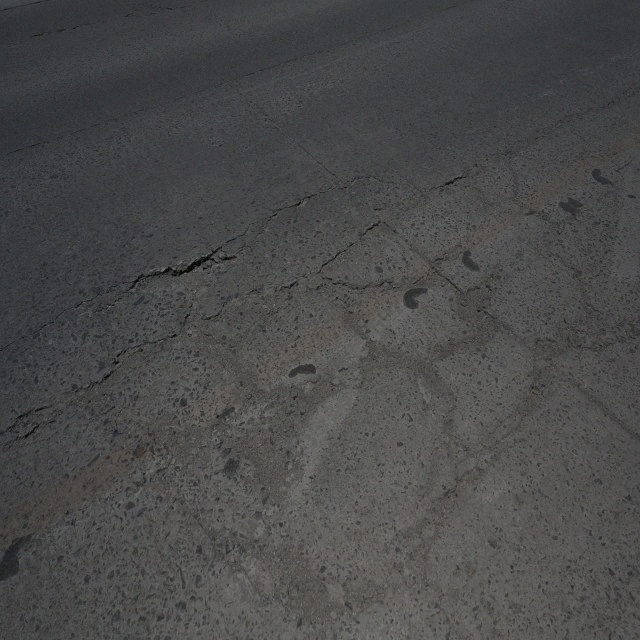pothole: (133, 245, 225, 306), (80, 342, 140, 408), (524, 334, 562, 414), (457, 283, 498, 352), (444, 174, 464, 195)
